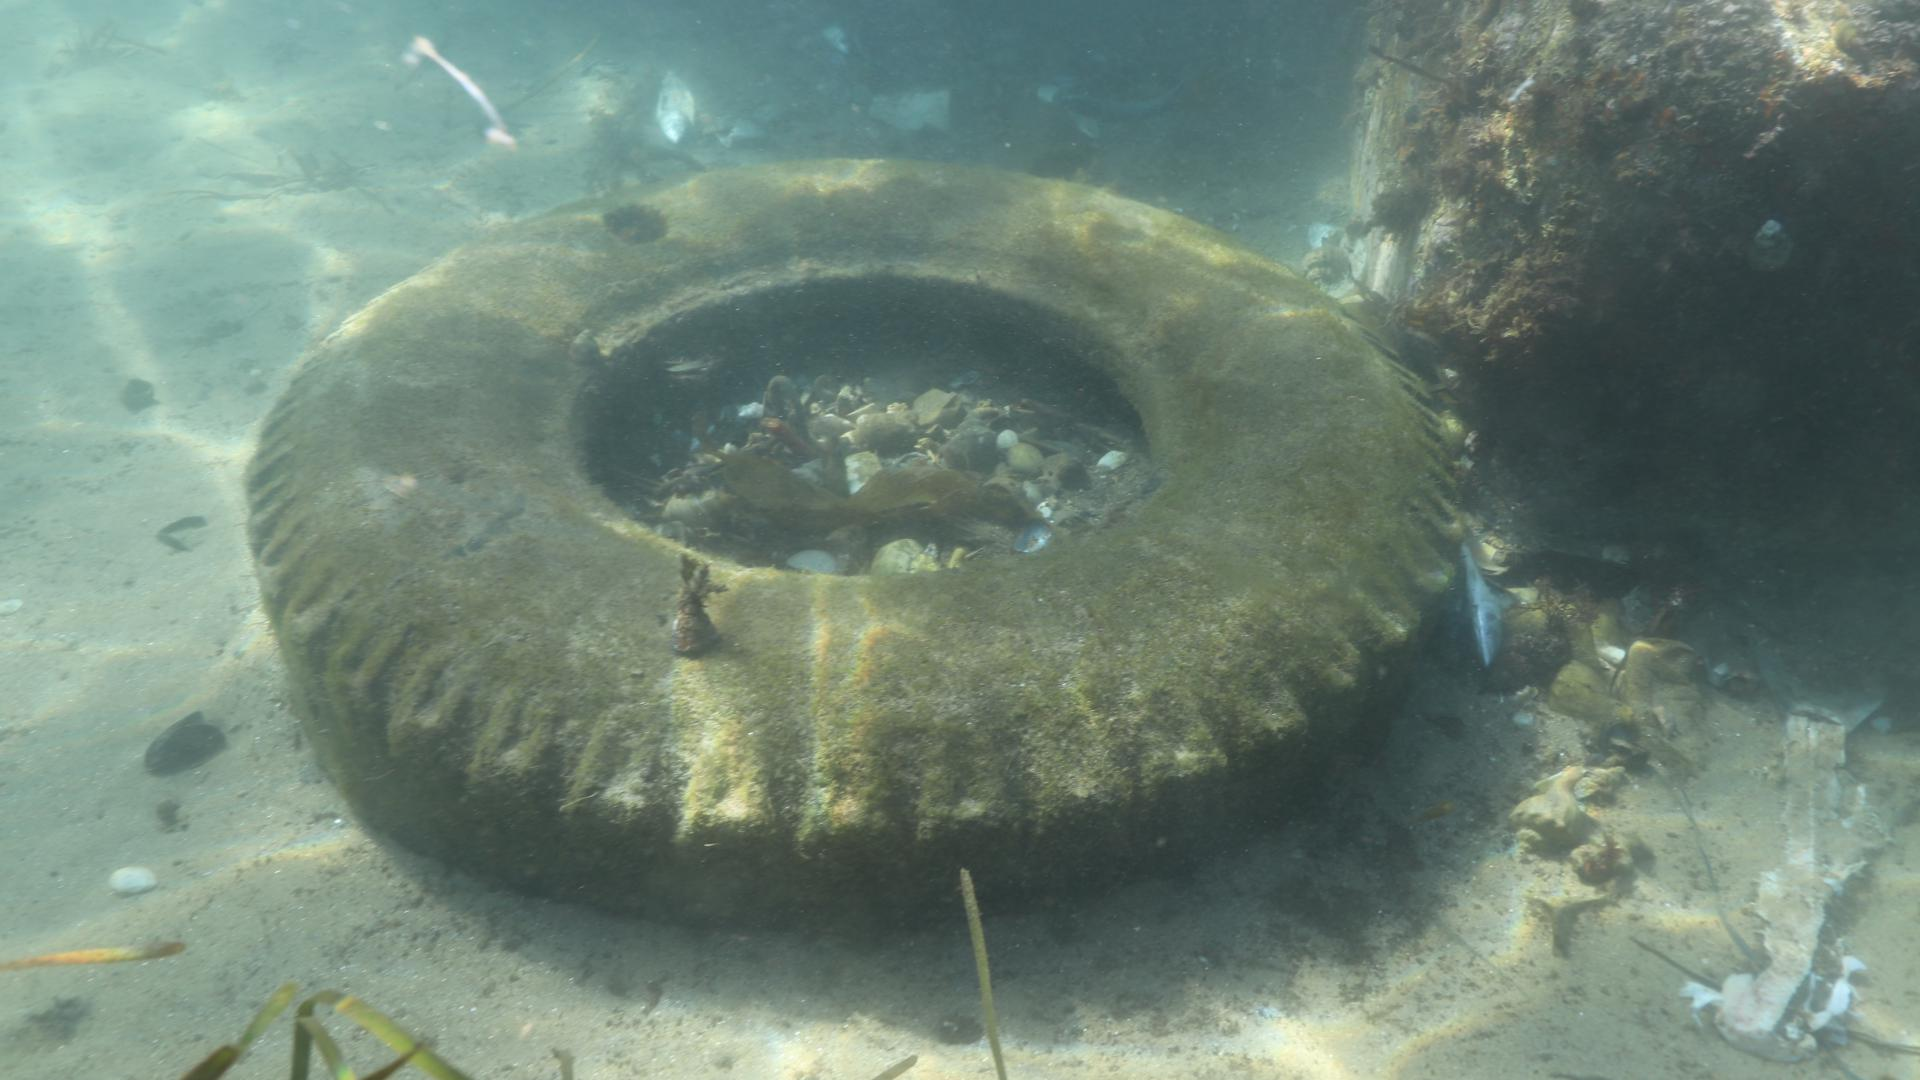tire: (243, 156, 1466, 936)
